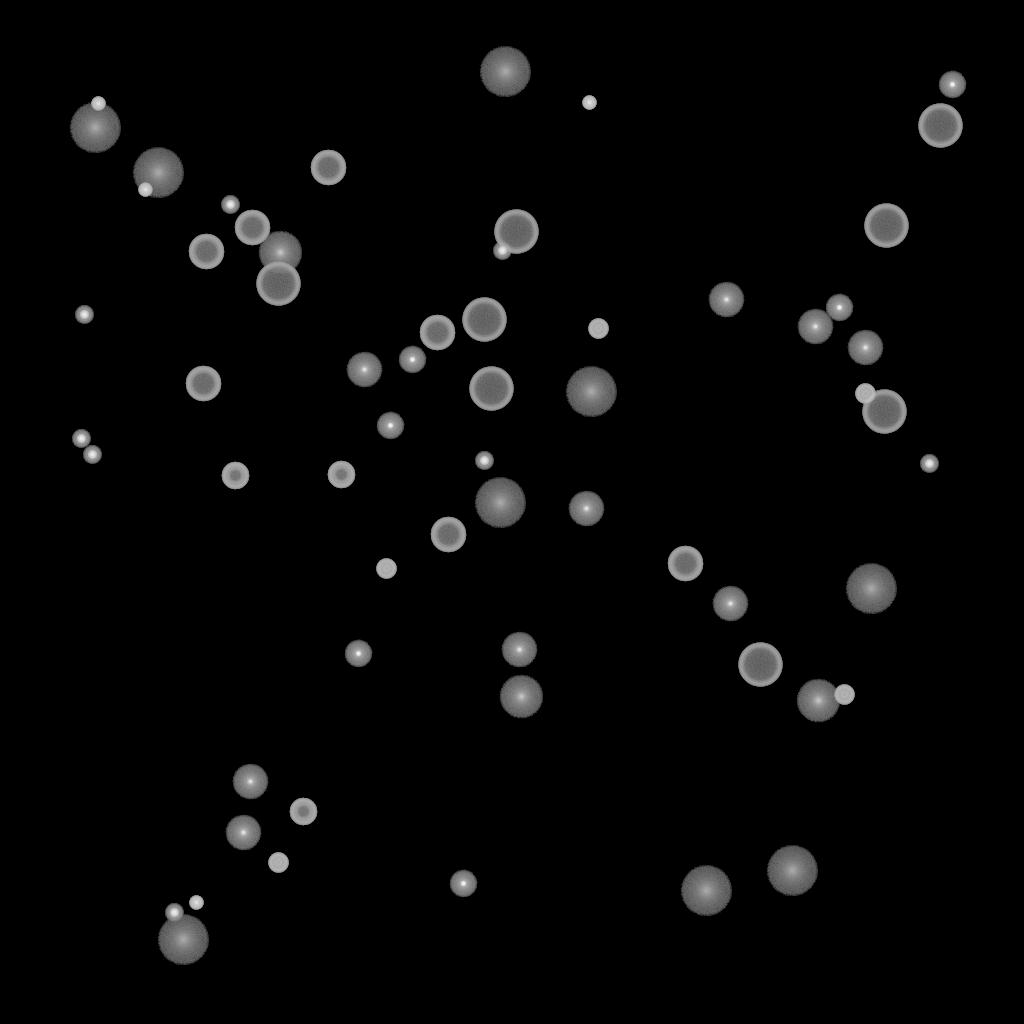depth:-10: (376, 412, 404, 440), (825, 294, 853, 322), (344, 640, 372, 668), (398, 346, 426, 374), (449, 870, 477, 898), (938, 71, 966, 99)
depth:-20: (83, 446, 101, 464), (165, 904, 183, 922), (72, 430, 90, 448), (75, 306, 93, 324), (221, 196, 239, 214), (475, 452, 493, 470), (493, 242, 511, 260), (920, 455, 938, 473)
depth:-30: (582, 96, 596, 110), (91, 97, 105, 111), (138, 183, 152, 197), (189, 896, 203, 910)
depth:-40: (268, 853, 288, 873), (588, 319, 608, 339), (834, 685, 854, 705), (855, 384, 875, 404), (376, 559, 396, 579)
depth:-50: (289, 798, 317, 826), (327, 461, 355, 489), (221, 462, 249, 490)
depth:-60: (185, 366, 221, 402), (310, 150, 346, 186), (419, 315, 455, 351), (430, 517, 466, 553), (188, 234, 224, 270), (234, 210, 270, 246), (667, 546, 703, 582)
depth:-70: (462, 298, 506, 342), (738, 643, 782, 687), (256, 262, 300, 306), (494, 210, 538, 254), (469, 367, 513, 411), (864, 204, 908, 248), (918, 104, 962, 148), (862, 390, 906, 434)
depth:0: (847, 330, 883, 366), (568, 491, 604, 527), (797, 309, 833, 345), (501, 632, 537, 668), (712, 586, 748, 622), (232, 764, 268, 800), (708, 282, 744, 318), (346, 352, 382, 388), (225, 815, 261, 851)
depth:10: (258, 231, 302, 275), (499, 675, 543, 719), (796, 679, 840, 723)
depth:20: (479, 47, 531, 97), (69, 103, 121, 153), (766, 846, 818, 896), (474, 478, 526, 528), (132, 148, 184, 198), (565, 367, 617, 417), (680, 866, 732, 916), (157, 915, 209, 965), (845, 564, 897, 614)
